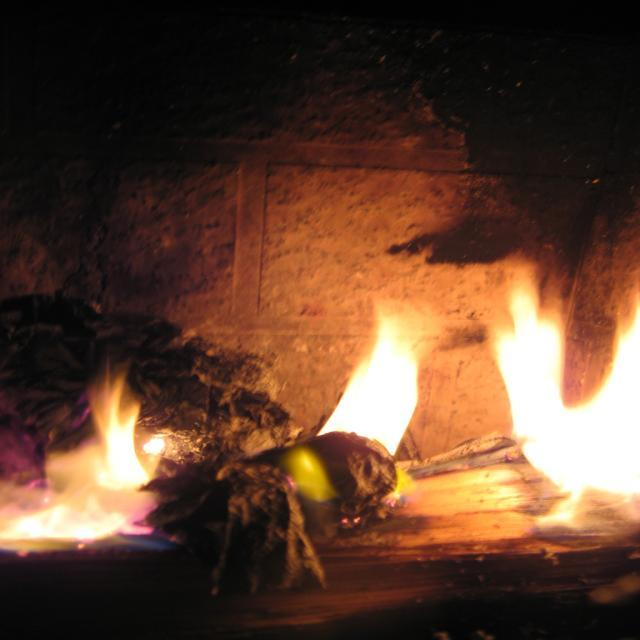Fire: (488, 323, 632, 497), (14, 431, 152, 528), (333, 354, 417, 444)
